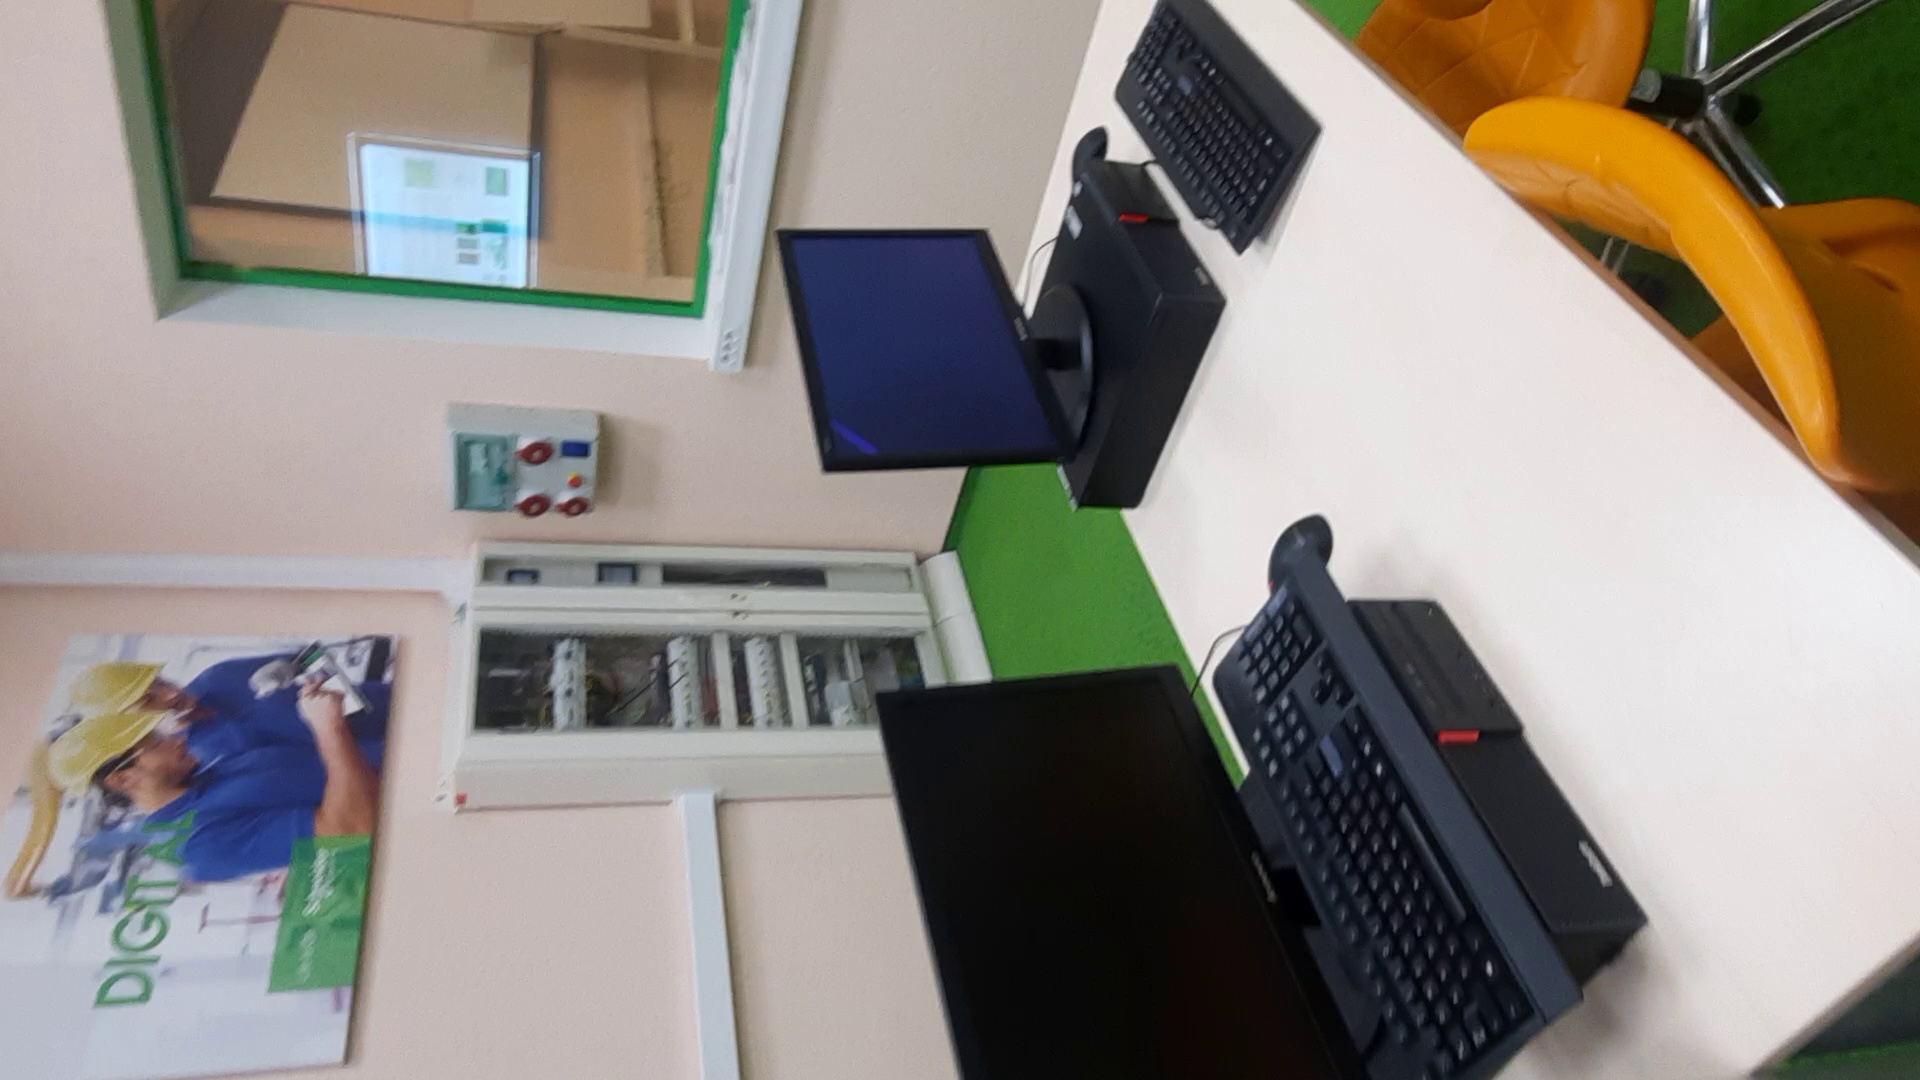stand1: (447, 525, 1000, 804)
